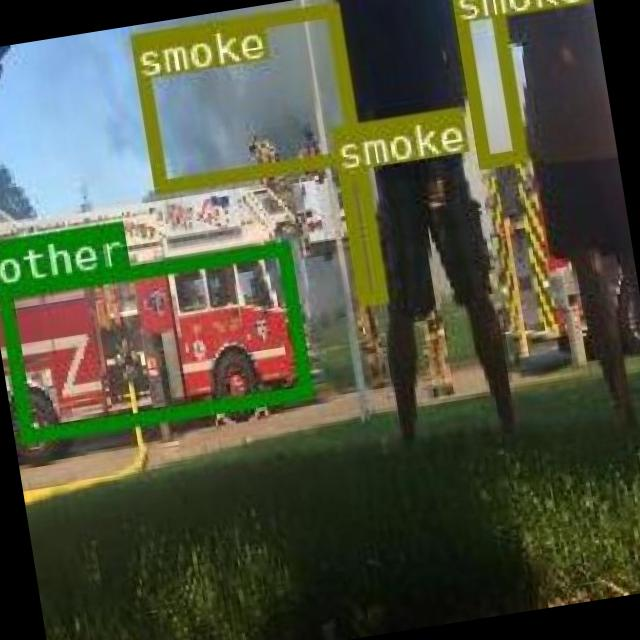smoke: (128, 0, 358, 194), (446, 0, 526, 167), (336, 168, 385, 305)
